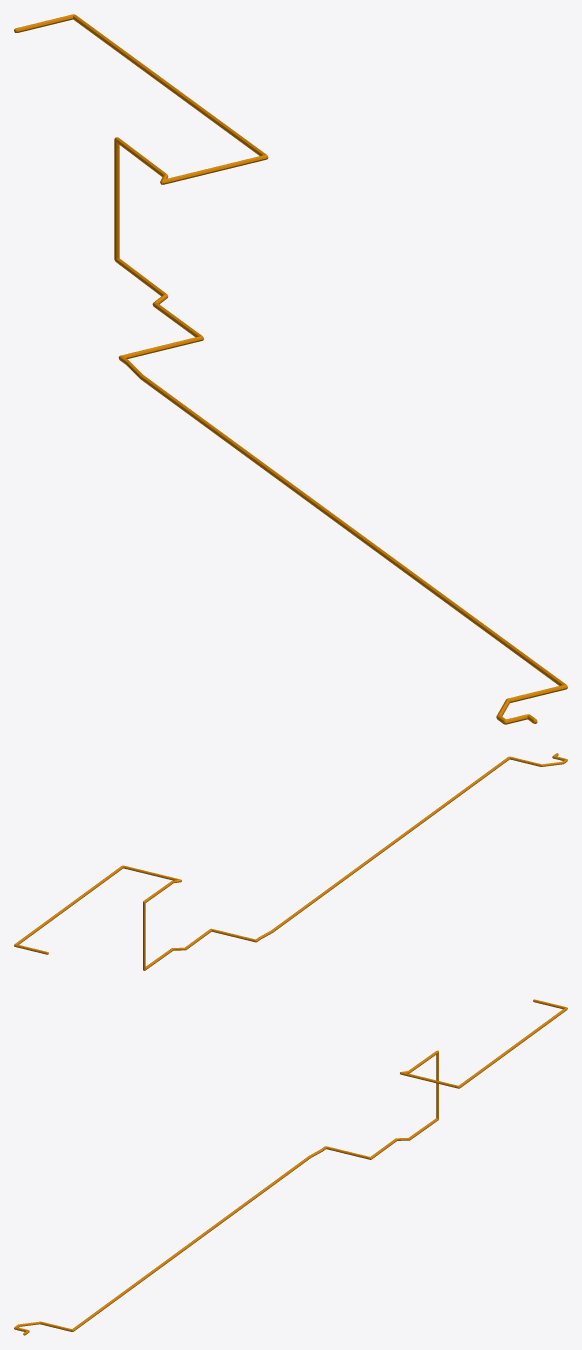
3 views of the same model, one above another, from view 1: azimuth 30°, elevation 25°; view 2: azimuth 150°, elevation 25°; view 3: azimuth 330°, elevation 25° (orthographic). The views are drawn at different scales.
Bounding box in the file's own units: 1224 × 520 × 5416.
